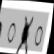correct: (0, 20, 3, 43)
not correct: (15, 12, 35, 54)
